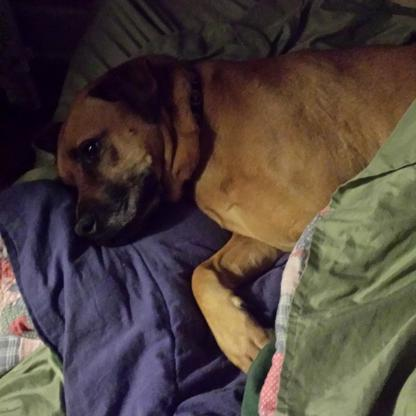Dog: (56, 43, 414, 375)
